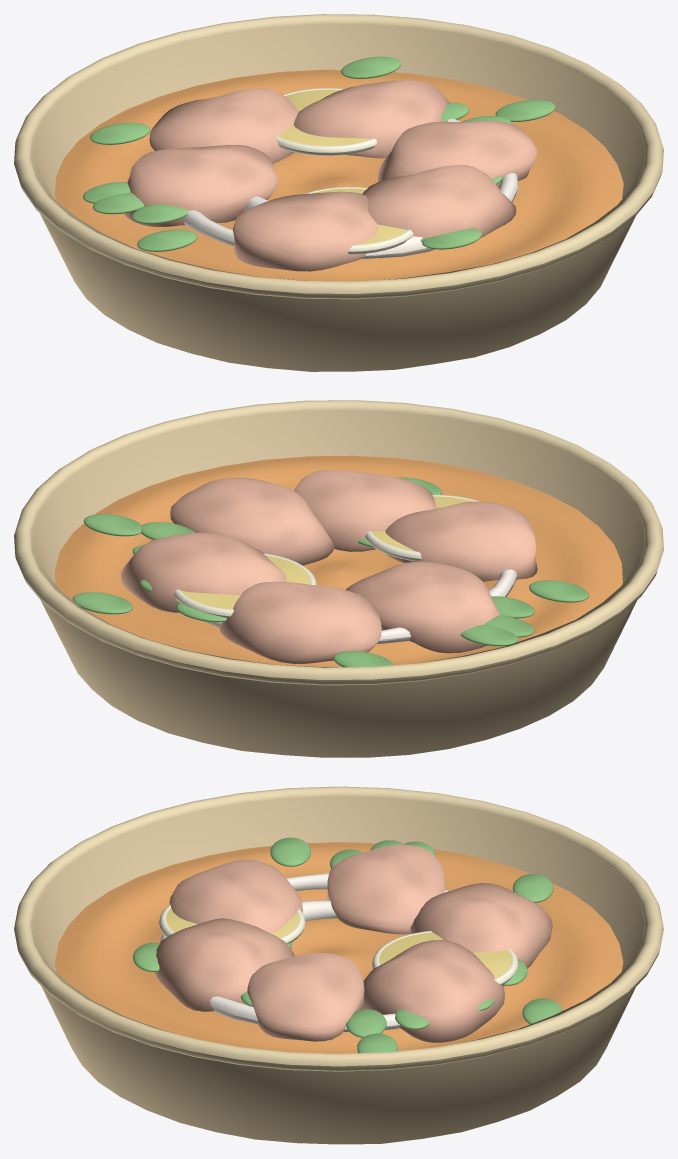
Rendered from salmon.glb.
3 views of the same model, one above another, from view 1: azimuth 30°, elevation 25°; view 2: azimuth 150°, elevation 25°; view 3: azimuth 270°, elevation 25° (orthographic).
Bounding box in the file's own units: 0.286 × 0.0682 × 0.286.
